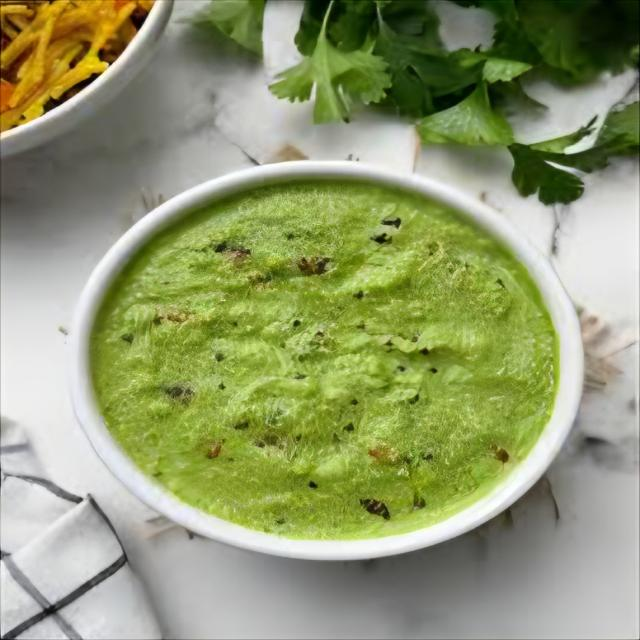GREEN CHUTNEY: (72, 162, 582, 559)
